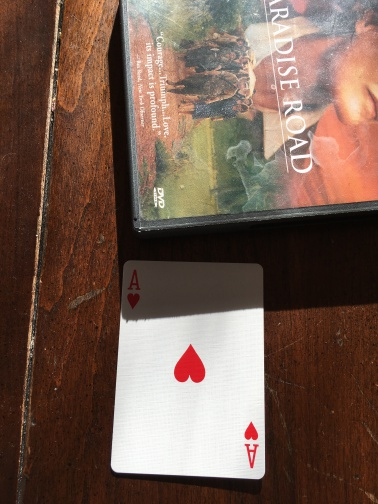ace: (110, 258, 268, 481)
